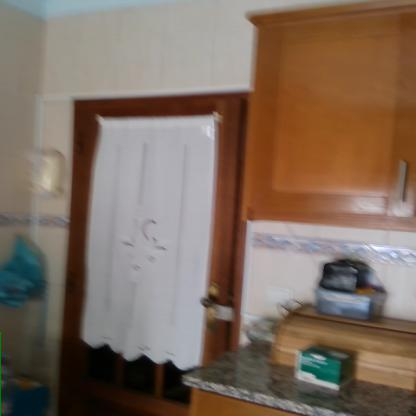door: (83, 106, 230, 415)
knob: (200, 295, 216, 312)
